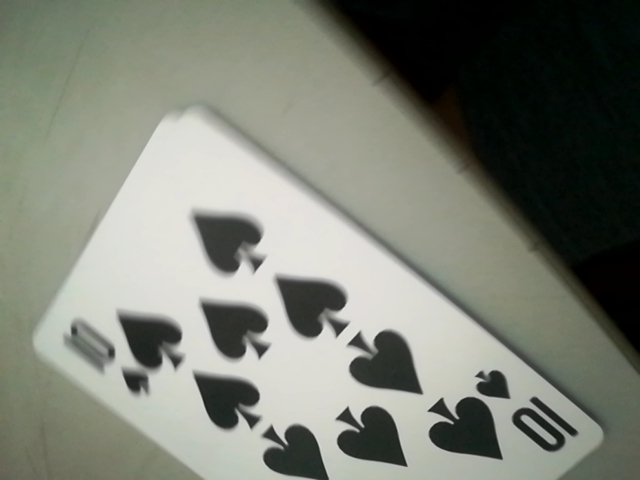ht 10: (484, 366, 585, 470)
